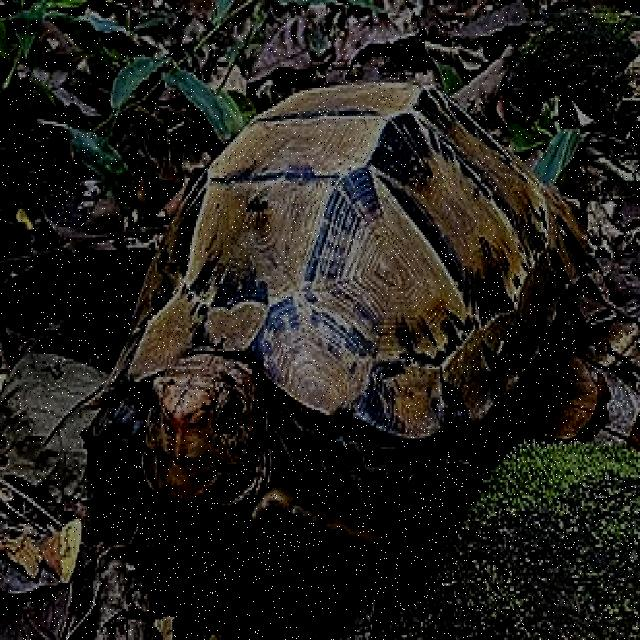tortoise: (68, 69, 632, 561)
